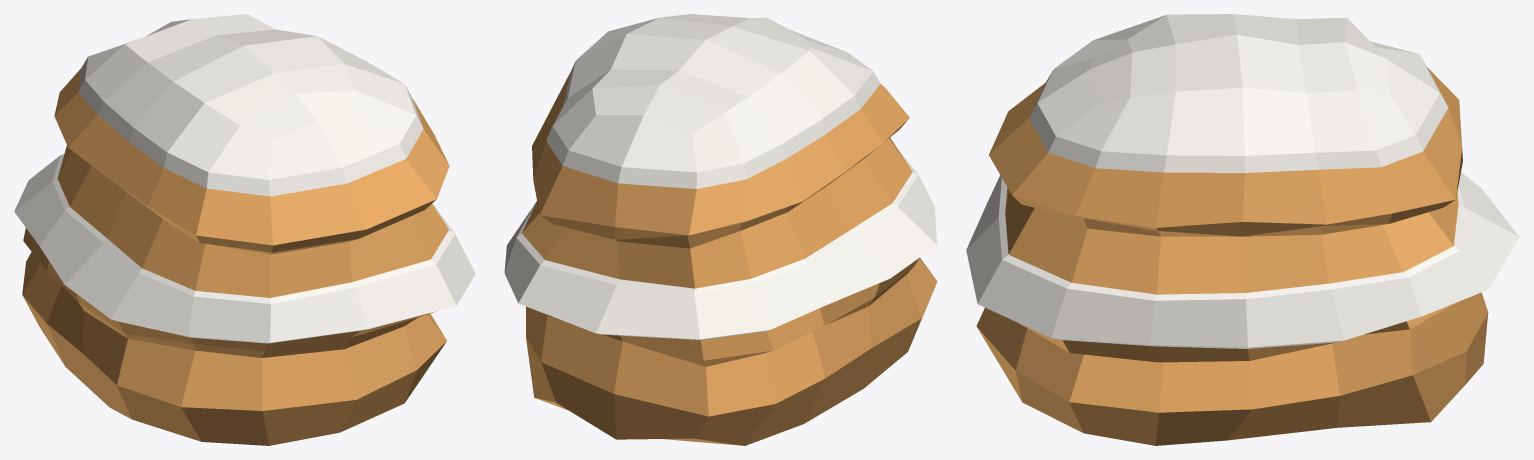
File: Bush_Snow_1.glb
The picture shows the model from 3 angles, left to right: view 1: azimuth 30°, elevation 25°; view 2: azimuth 150°, elevation 25°; view 3: azimuth 270°, elevation 25°; orthographic projection. The views are drawn at different scales.
Parts seen in each view (by area): view 1: Bush_Snow_1; view 2: Bush_Snow_1; view 3: Bush_Snow_1.
Part boxes in pixels (x1,y1,x2,y2): Bush_Snow_1: (14,14,475,445); Bush_Snow_1: (504,14,937,445); Bush_Snow_1: (966,14,1519,445).
Size of the model in its own units: 1.39 by 1.28 by 1.78.
